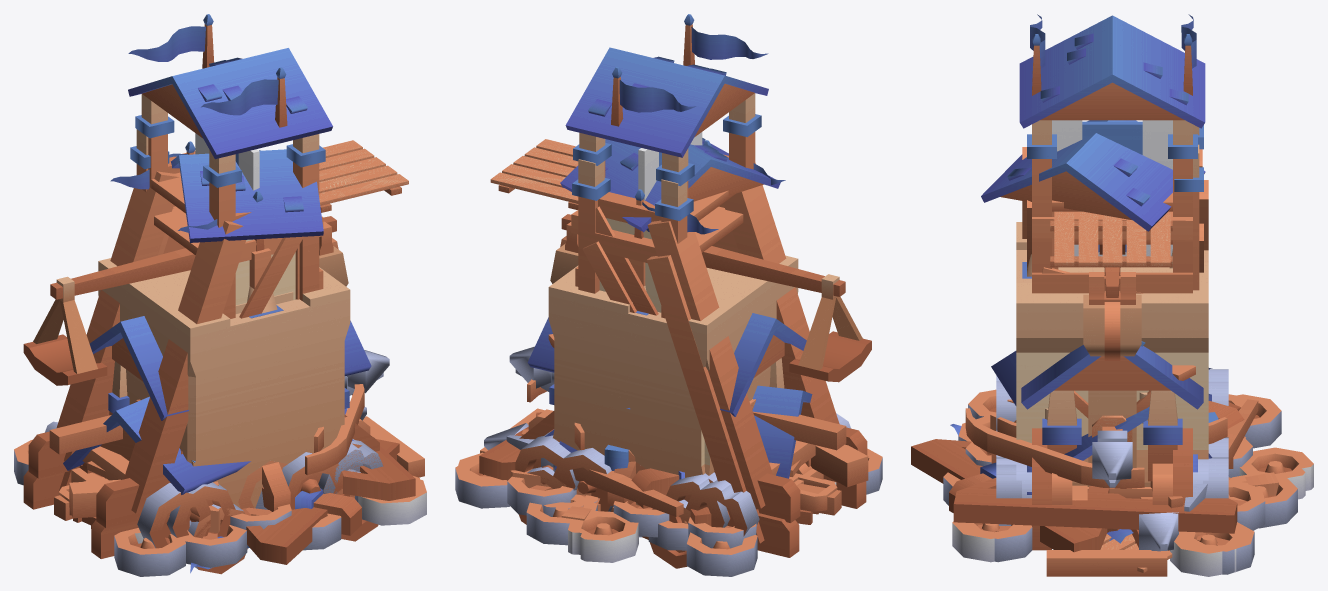
Rendered from siege.glb.
3 views of the same model, side by side, from view 1: azimuth 30°, elevation 25°; view 2: azimuth 150°, elevation 25°; view 3: azimuth 270°, elevation 25° (orthographic). The views are drawn at different scales.
Visible parts, largest first — view 1: siege_tower_part0, siege_tower_wrecked_part0, wall_part0, siege_trebuchet_wrecked_part0, siege_ram_wrecked_part0, siege_ram_part0, wall_narrow_stairs_part0, wall_doorway_part0, siege_trebuchet_part2, siege_trebuchet_part4, siege_trebuchet_part0, siege_trebuchet_part1 (+15 smaller); view 2: siege_tower_part0, siege_tower_wrecked_part0, wall_part0, siege_ram_wrecked_part0, wall_narrow_stairs_part0, wall_doorway_part0, siege_trebuchet_wrecked_part0, siege_ram_part0, siege_ballista_wrecked_part0, siege_trebuchet_part2, siege_catapult_wrecked_part0, wall_corner_part0 (+15 smaller); view 3: siege_tower_part0, siege_trebuchet_wrecked_part0, siege_tower_wrecked_part0, siege_ram_part0, wall_part0, siege_ram_wrecked_part0, siege_ballista_wrecked_part0, wall_corner_part0, siege_trebuchet_part3, siege_catapult_wrecked_part0, wall_pillar_part0, flag_banner_long_part0 (+11 smaller).
Part boxes in pixels (x1=…): siege_tower_part0: x1=28, y1=14, x2=408, y2=527; siege_tower_wrecked_part0: x1=14, y1=129, x2=341, y2=576; wall_part0: x1=98, y1=258, x2=350, y2=486; siege_trebuchet_wrecked_part0: x1=129, y1=416, x2=426, y2=564; siege_ram_wrecked_part0: x1=54, y1=396, x2=366, y2=535; siege_ram_part0: x1=79, y1=316, x2=371, y2=473; wall_narrow_stairs_part0: x1=191, y1=282, x2=347, y2=508; wall_doorway_part0: x1=98, y1=259, x2=270, y2=508; siege_trebuchet_part2: x1=23, y1=276, x2=107, y2=385; siege_trebuchet_part4: x1=23, y1=277, x2=107, y2=385; siege_trebuchet_part0: x1=110, y1=141, x2=379, y2=511; siege_trebuchet_part1: x1=50, y1=216, x2=336, y2=299; siege_tower_part0: x1=490, y1=14, x2=867, y2=522; siege_tower_wrecked_part0: x1=526, y1=138, x2=882, y2=576; wall_part0: x1=548, y1=267, x2=798, y2=476; siege_ram_wrecked_part0: x1=484, y1=385, x2=841, y2=548; wall_narrow_stairs_part0: x1=551, y1=270, x2=667, y2=505; wall_doorway_part0: x1=628, y1=276, x2=790, y2=505; siege_trebuchet_wrecked_part0: x1=456, y1=408, x2=836, y2=562; siege_ram_part0: x1=527, y1=313, x2=810, y2=466; siege_ballista_wrecked_part0: x1=506, y1=379, x2=818, y2=524; siege_trebuchet_part2: x1=789, y1=274, x2=871, y2=381; siege_catapult_wrecked_part0: x1=455, y1=429, x2=711, y2=550; wall_corner_part0: x1=548, y1=266, x2=798, y2=475; siege_tower_part0: x1=1019, y1=14, x2=1205, y2=293; siege_trebuchet_wrecked_part0: x1=911, y1=439, x2=1313, y2=576; siege_tower_wrecked_part0: x1=943, y1=120, x2=1297, y2=572; siege_ram_part0: x1=1021, y1=341, x2=1203, y2=504; wall_part0: x1=1016, y1=291, x2=1208, y2=486; siege_ram_wrecked_part0: x1=949, y1=351, x2=1265, y2=551; siege_ballista_wrecked_part0: x1=965, y1=399, x2=1263, y2=511; wall_corner_part0: x1=1016, y1=250, x2=1208, y2=482; siege_trebuchet_part3: x1=1083, y1=272, x2=1141, y2=358; siege_catapult_wrecked_part0: x1=958, y1=402, x2=1278, y2=574; wall_pillar_part0: x1=1016, y1=222, x2=1208, y2=486; flag_banner_long_part0: x1=1052, y1=120, x2=1172, y2=256.
Size of the model in its own units: 2.2 by 2.83 by 2.1.
1 material, 1 textured.
